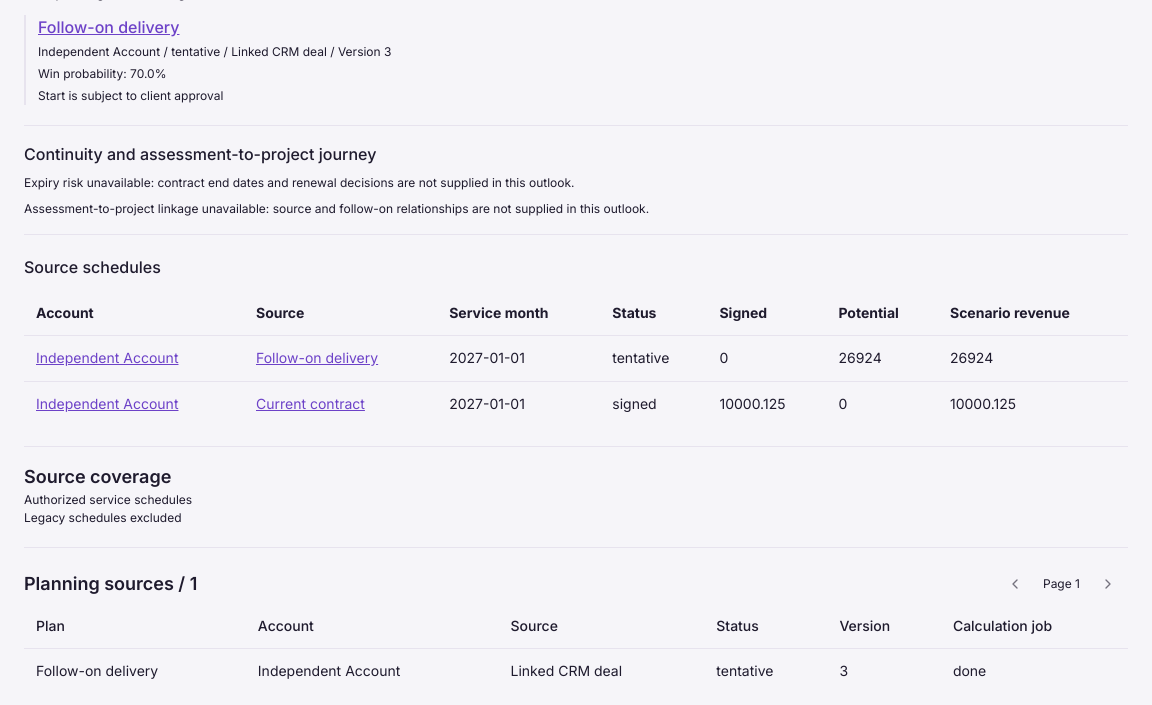
it: Independent Forecast Overview boundaries › keeps authority on server 403 and discards previously visible source detail
(page scrolled)
Click the button "Follow-on delivery" at (317, 358), box [256,348,378,369]
(page scrolled)
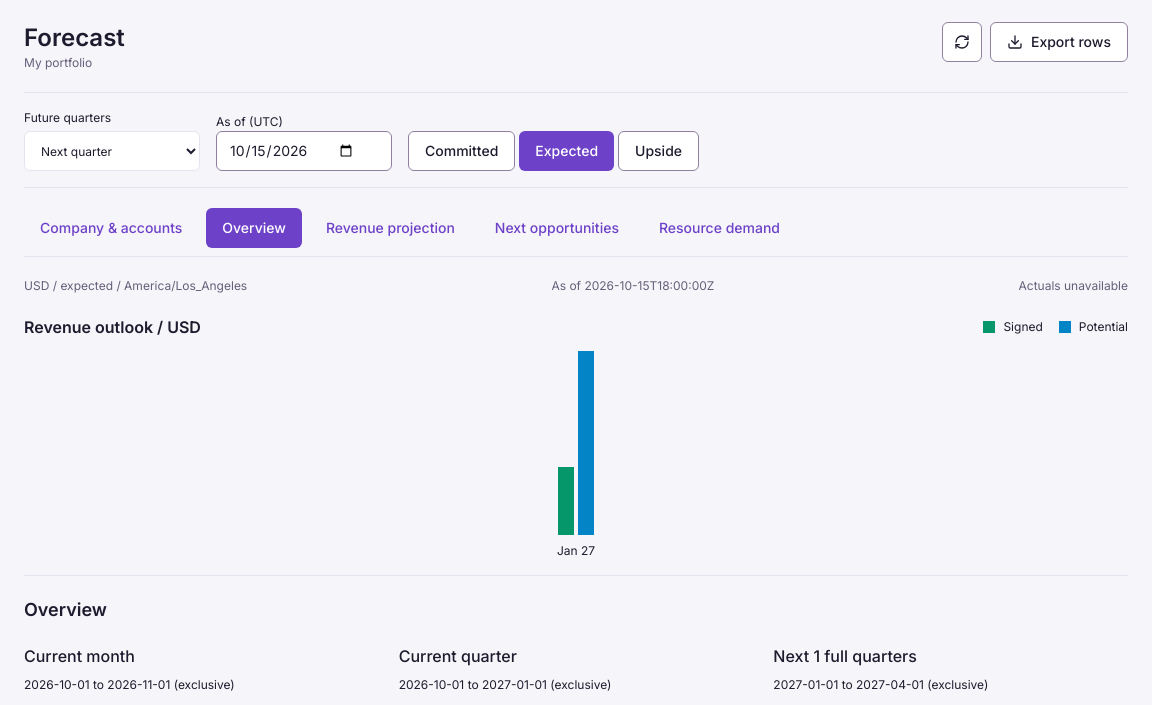
Click the button named "Refresh forecast" at (962, 42), box [942,22,982,62]
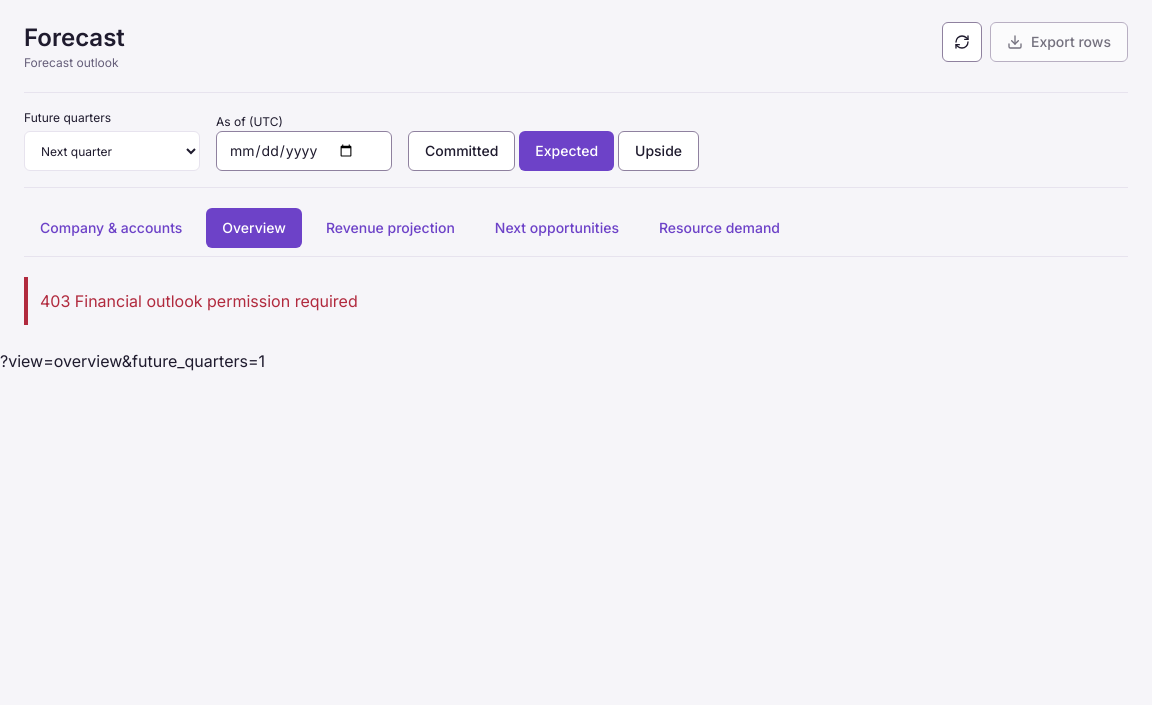
Expected: the message reads "403 Financial outlook permission required", [40,291,358,311]
Expected: the button "Export rows" is disabled, [990,22,1128,62]
